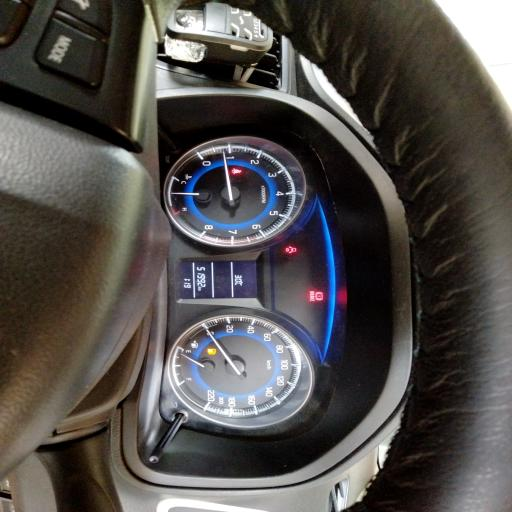belt: (231, 168, 241, 174)
brake_system_fault: (315, 292, 324, 300)
tachometer: (168, 145, 297, 247)
